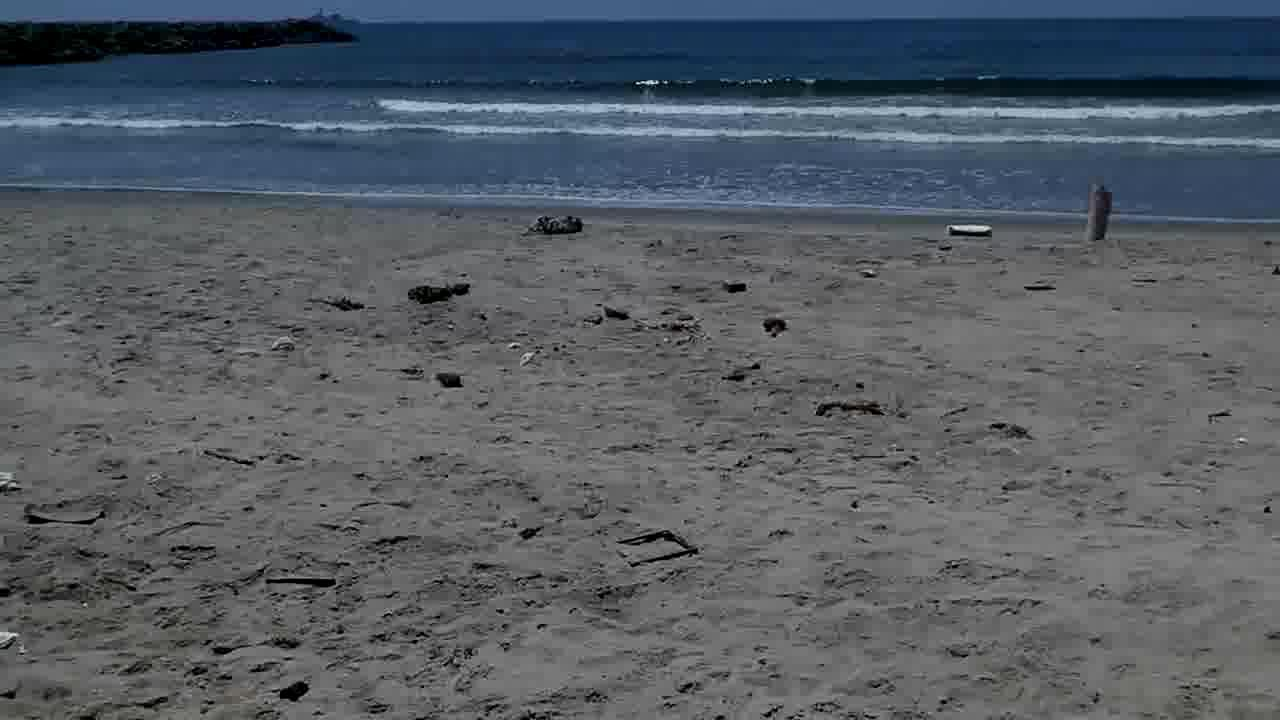large collection of objects: (522, 214, 580, 235), (942, 217, 989, 237)
obj: (613, 528, 695, 562), (17, 502, 106, 532), (642, 312, 711, 342), (1084, 186, 1116, 240), (404, 278, 474, 302), (254, 575, 340, 592), (814, 398, 882, 416), (270, 332, 296, 350), (762, 316, 782, 336), (1, 472, 19, 494), (721, 276, 748, 290), (436, 372, 459, 388), (519, 351, 535, 366)
sand/background: (1, 0, 1279, 242)
